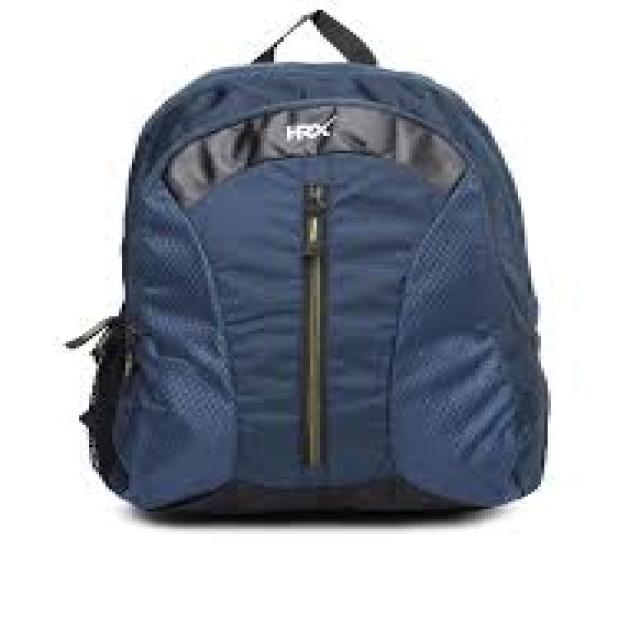backpack: (63, 8, 551, 516)
